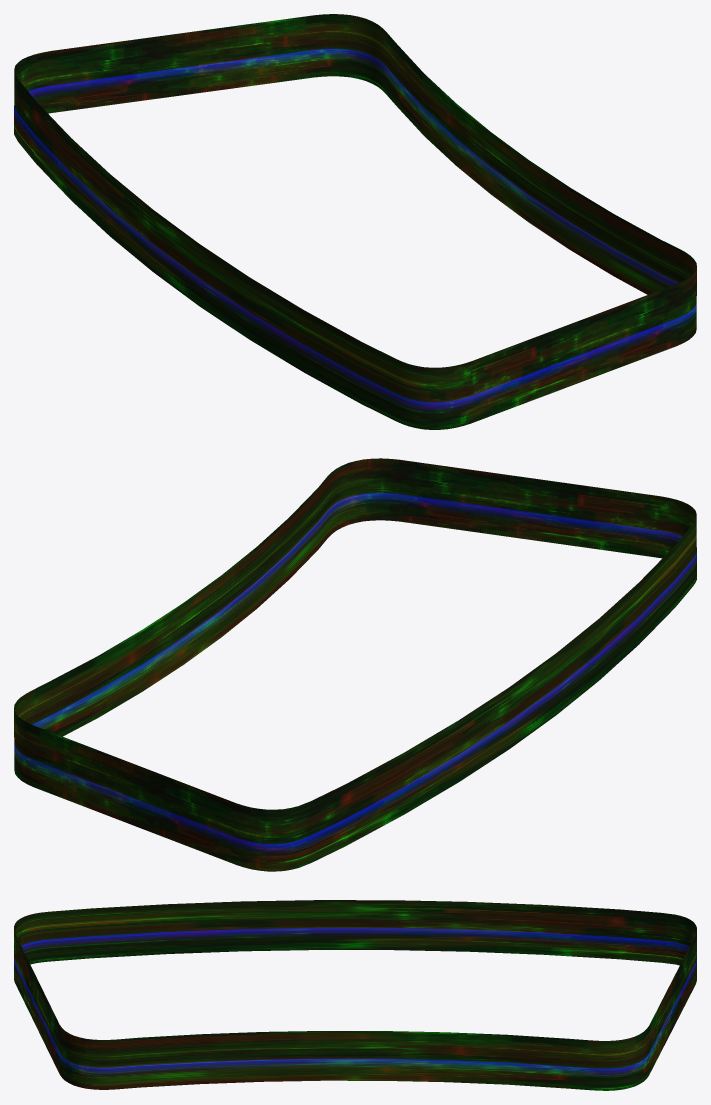
Rendered from Club_VIPFloorTrimBarrier_01.FBX.
3 views of the same model, one above another, from view 1: azimuth 30°, elevation 25°; view 2: azimuth 150°, elevation 25°; view 3: azimuth 270°, elevation 25° (orthographic). The views are drawn at different scales.
Parts seen in each view (by area): view 1: Club_VIPFloorTrimBarrier_01; view 2: Club_VIPFloorTrimBarrier_01; view 3: Club_VIPFloorTrimBarrier_01.
Part boxes in pixels (left/top/right/bottom): Club_VIPFloorTrimBarrier_01: left=14, top=14, right=696, bottom=429; Club_VIPFloorTrimBarrier_01: left=14, top=458, right=696, bottom=871; Club_VIPFloorTrimBarrier_01: left=14, top=900, right=696, bottom=1090.
Size of the model in its own units: 9.06 by 1.5 by 18.55.
